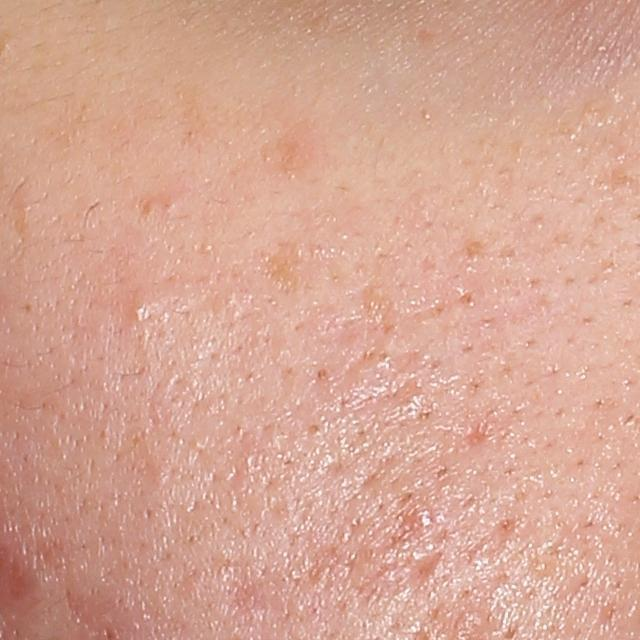comedo: (130, 298, 153, 322)
